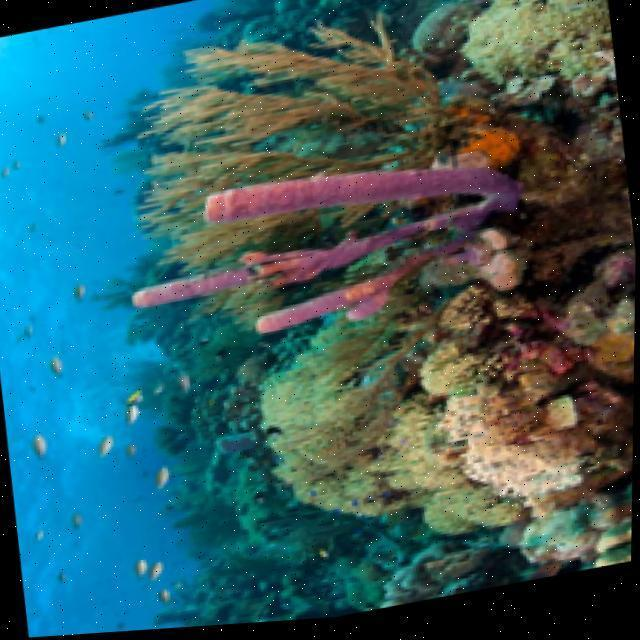Healthy Coral: (110, 128, 536, 376), (114, 0, 468, 200), (245, 308, 452, 566), (406, 281, 591, 549), (452, 0, 619, 123)
